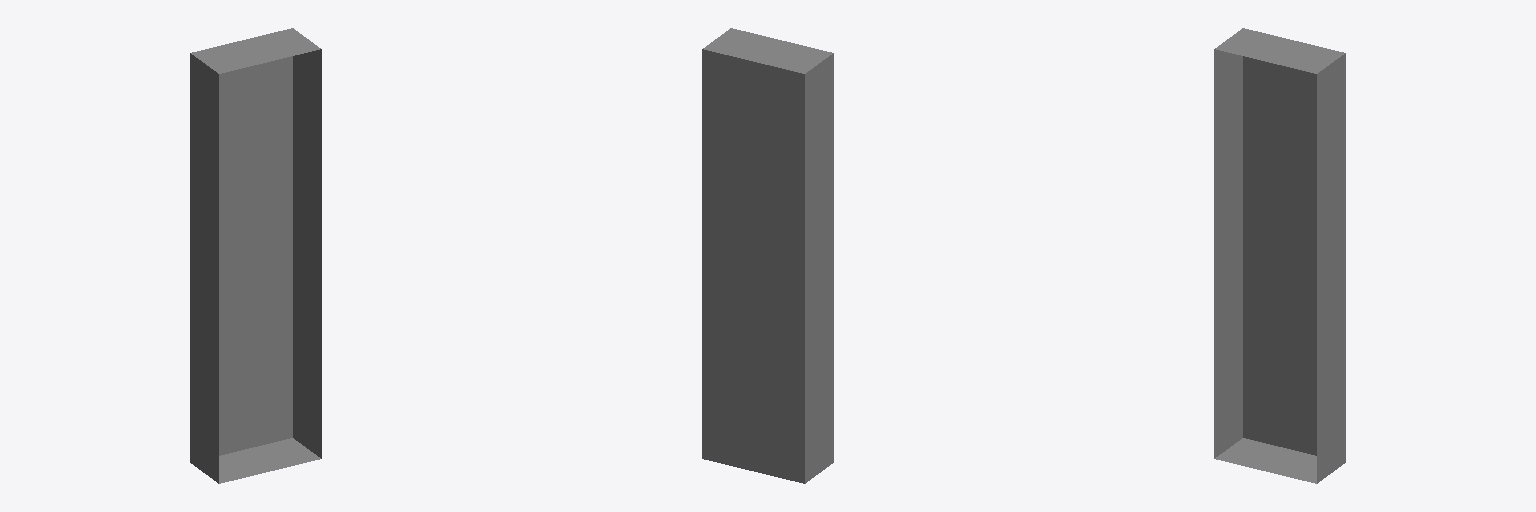
Rendered from MeganeStep001.obj.
3 views of the same model, side by side, from view 1: azimuth 30°, elevation 25°; view 2: azimuth 150°, elevation 25°; view 3: azimuth 330°, elevation 25° (orthographic).
Parts seen in each view (by area): view 1: Step001__BridgeIndSand00_rep; view 2: Step001__BridgeIndSand00_rep; view 3: Step001__BridgeIndSand00_rep.
Boxes of the visible parts, x1=… form: Step001__BridgeIndSand00_rep: x1=190, y1=28, x2=321, y2=483; Step001__BridgeIndSand00_rep: x1=702, y1=28, x2=833, y2=483; Step001__BridgeIndSand00_rep: x1=1214, y1=28, x2=1345, y2=483.
Bounding box in the file's own units: 390 × 1490 × 190.